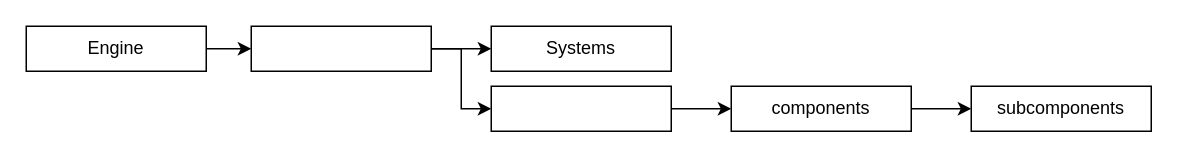
This 1178x158 diagram has some shape labels left out. Here are the shapes that lost their labels. From the top down, the centre of each, then its label:
At [340,48]: "Scenes".
At [580,108]: "entities".
